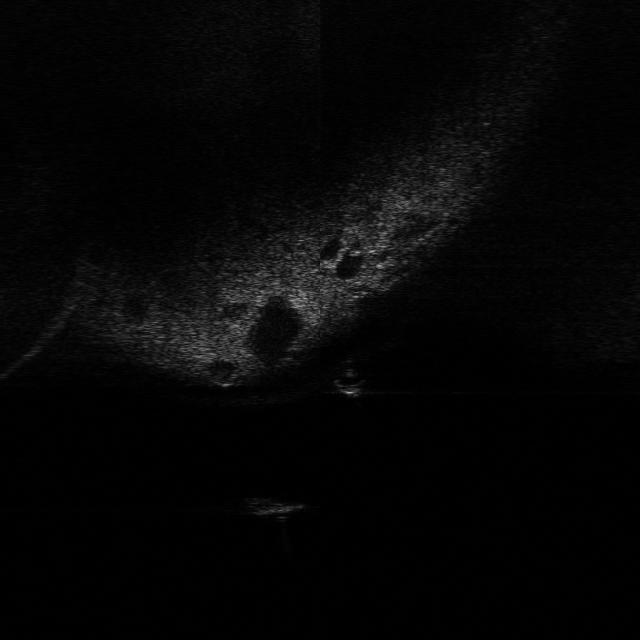ball: (331, 361, 372, 400)
cube: (242, 486, 307, 524)
